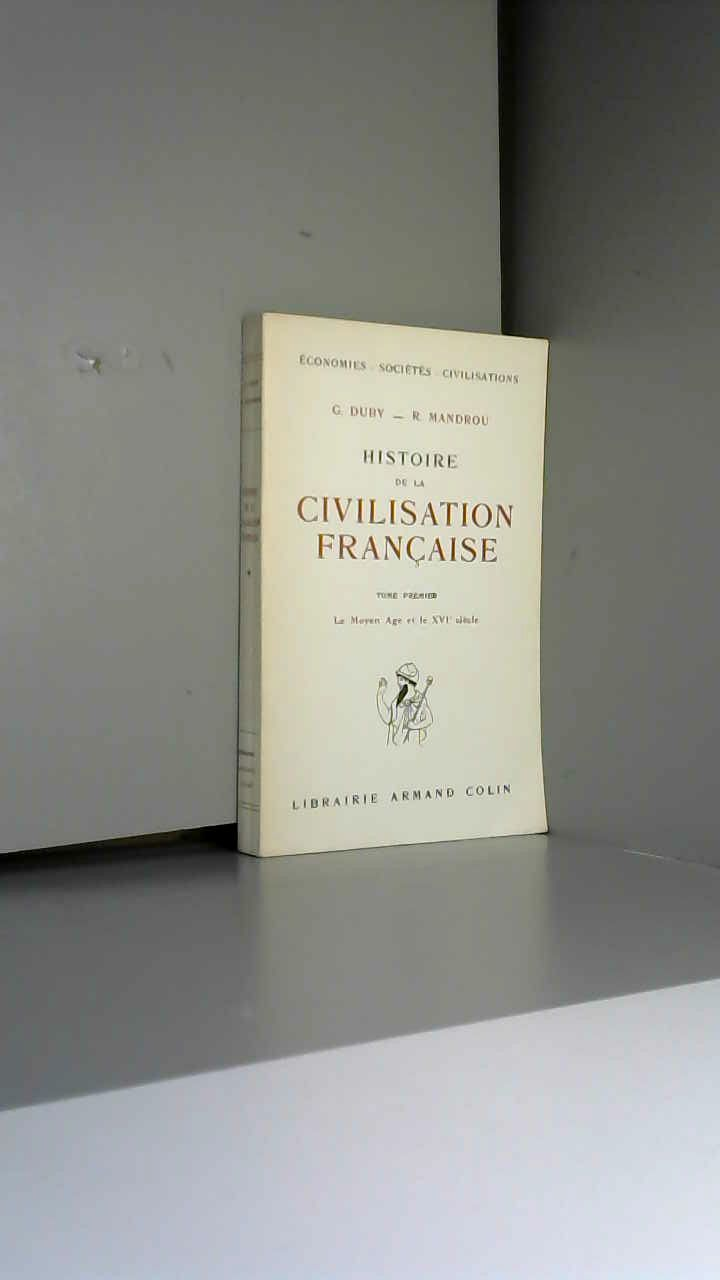book: (211, 279, 576, 882)
